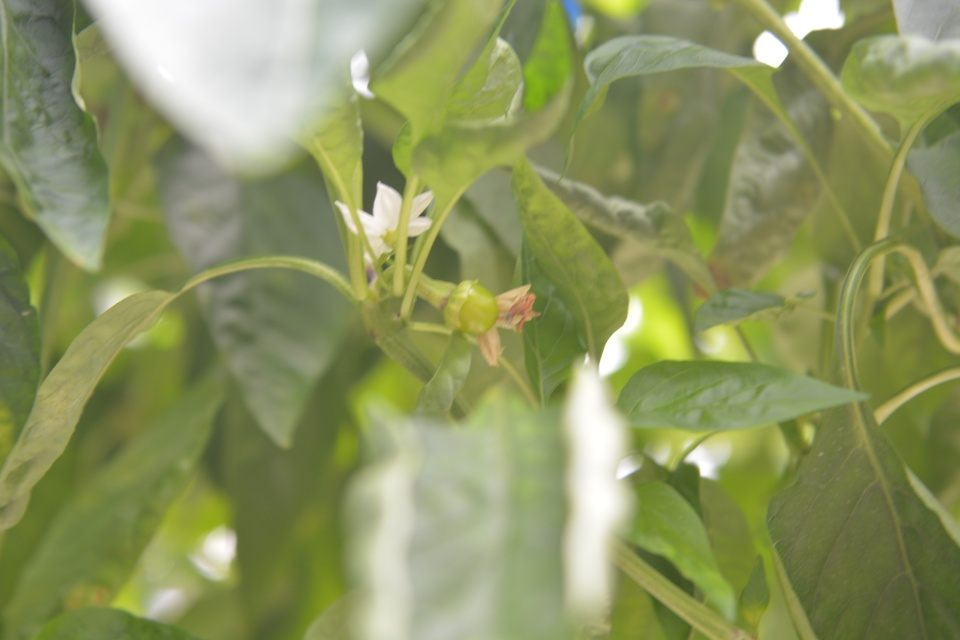flower: (332, 178, 437, 266)
